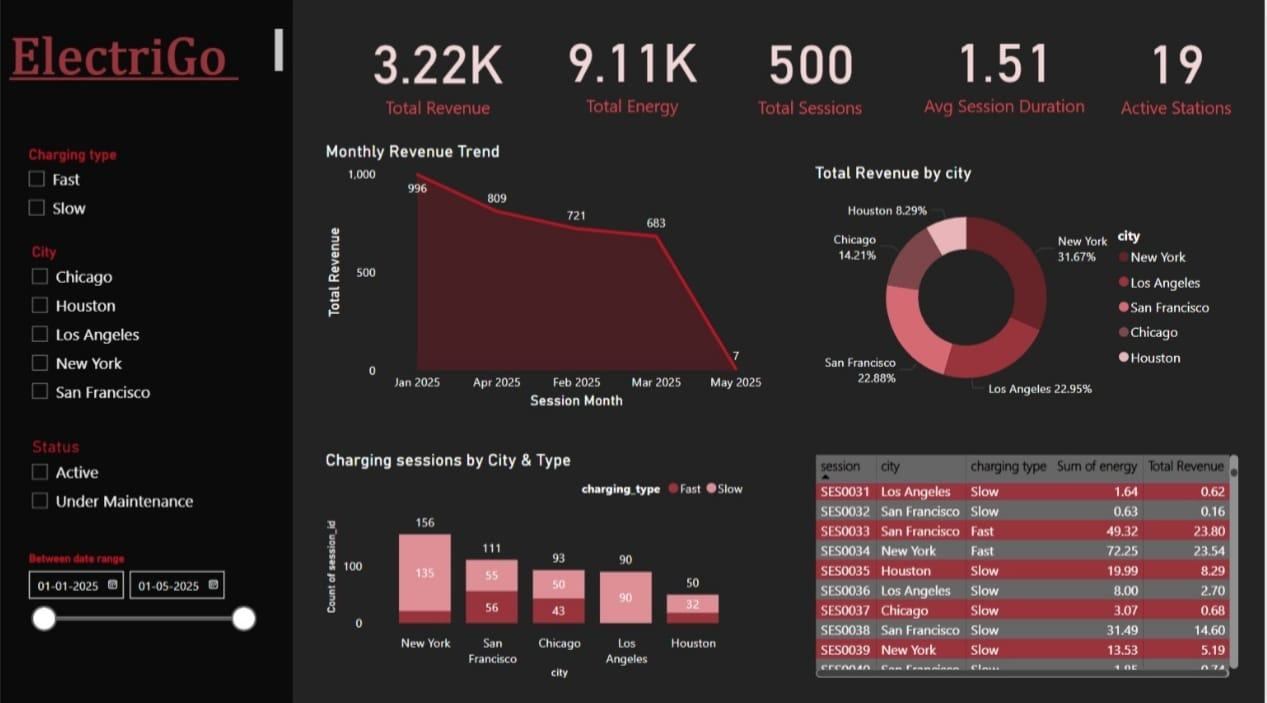

This screenshot's page, from the dashboard's own definition file:
{"tool":"powerbi","page":{"name":"Page 1","canvas":[1280,720],"ordinal":0},"visuals":[{"type":"card","fields":{"Values":["ev_sessions.Total Revenue"]},"box":[356.7,13.3,173.3,121.7],"z":0},{"type":"card","fields":{"Values":["ev_sessions.Total Energy"]},"box":[553.3,11.7,173.3,121.7],"z":1000},{"type":"card","fields":{"Values":["ev_sessions.Active Stations"]},"box":[1102.6,13.6,174,121],"z":2000},{"type":"card","fields":{"Values":["ev_sessions.Avg Session Duration"]},"box":[930,11.7,173.3,121.7],"z":3000},{"type":"card","fields":{"Values":["ev_sessions.Total Sessions"]},"box":[733.3,13.3,173.3,121.7],"z":4000},{"type":"lineChart","title":"Monthly Revenue Trend","fields":{"Category":["ev_sessions.Session Month"],"Y":["ev_sessions.Total Revenue"]},"box":[325,146.7,458.3,275],"z":5000},{"type":"donutChart","fields":{"Category":["ev_stations.city"],"Y":["ev_sessions.Total Revenue"]},"box":[820,168.3,418.3,253.3],"z":6000},{"type":"columnChart","title":"Charging sessions by City & Type","fields":{"Category":["ev_stations.city"],"Y":["CountNonNull(ev_sessions.session_id)"],"Series":["ev_stations.charging_type"]},"box":[325,458.3,436.7,235],"z":7000},{"type":"shape","box":[0,0,296.7,720],"z":8000},{"type":"textbox","box":[5,28.3,286.7,61.7],"z":9000},{"type":"slicer","fields":{"Values":["ev_stations.charging_type"]},"box":[16.7,146.7,251.7,98.3],"z":10000},{"type":"slicer","fields":{"Values":["ev_stations.city"]},"box":[20,245,248.3,195],"z":11000},{"type":"slicer","fields":{"Values":["ev_sessions.start_time"]},"box":[16.7,556.7,251.7,108.3],"z":12000},{"type":"slicer","fields":{"Values":["ev_stations.status"]},"box":[20,440,248.3,93.3],"z":13000},{"type":"tableEx","fields":{"Values":["ev_sessions.session_id","ev_stations.city","ev_stations.charging_type","Sum(ev_sessions.energy_kWh)","ev_sessions.Total Revenue"]},"box":[820,458.3,438.3,235],"z":14000}]}

Visuals, with their boxes in screenshot pixels (x1, y1, x2, y2), scaled from the page's 1280x720 canvas onto the 1267x703 screenshot:
card - ev_sessions.Total Revenue: Rect(353, 13, 525, 132)
card - ev_sessions.Total Energy: Rect(548, 11, 719, 130)
card - ev_sessions.Active Stations: Rect(1091, 13, 1264, 131)
card - ev_sessions.Avg Session Duration: Rect(921, 11, 1092, 130)
card - ev_sessions.Total Sessions: Rect(726, 13, 897, 132)
"Monthly Revenue Trend" lineChart: Rect(322, 143, 775, 412)
donutChart - ev_stations.city x ev_sessions.Total Revenue: Rect(812, 164, 1226, 412)
"Charging sessions by City & Type" columnChart: Rect(322, 447, 754, 677)
shape: Rect(0, 0, 294, 702)
textbox: Rect(5, 28, 289, 88)
slicer - ev_stations.charging_type: Rect(17, 143, 266, 239)
slicer - ev_stations.city: Rect(20, 239, 266, 430)
slicer - ev_sessions.start_time: Rect(17, 544, 266, 649)
slicer - ev_stations.status: Rect(20, 430, 266, 521)
tableEx - ev_sessions.session_id x ev_stations.city: Rect(812, 447, 1246, 677)
